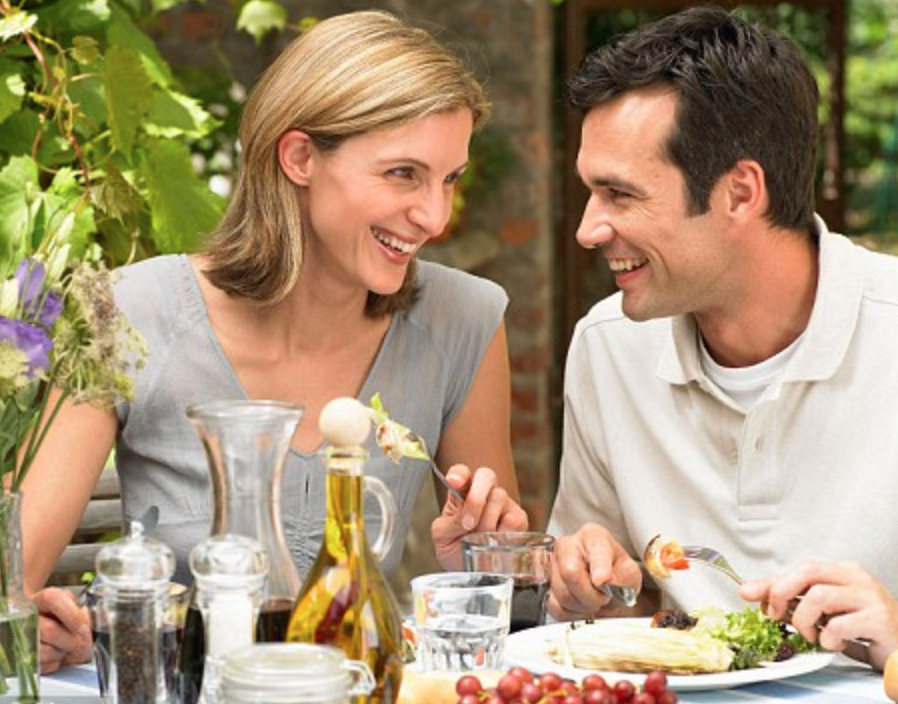Bad: (128, 9, 898, 401)
